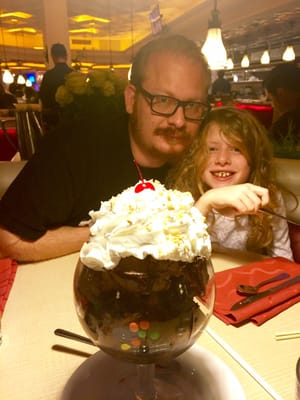burger: (50, 328, 206, 365)
